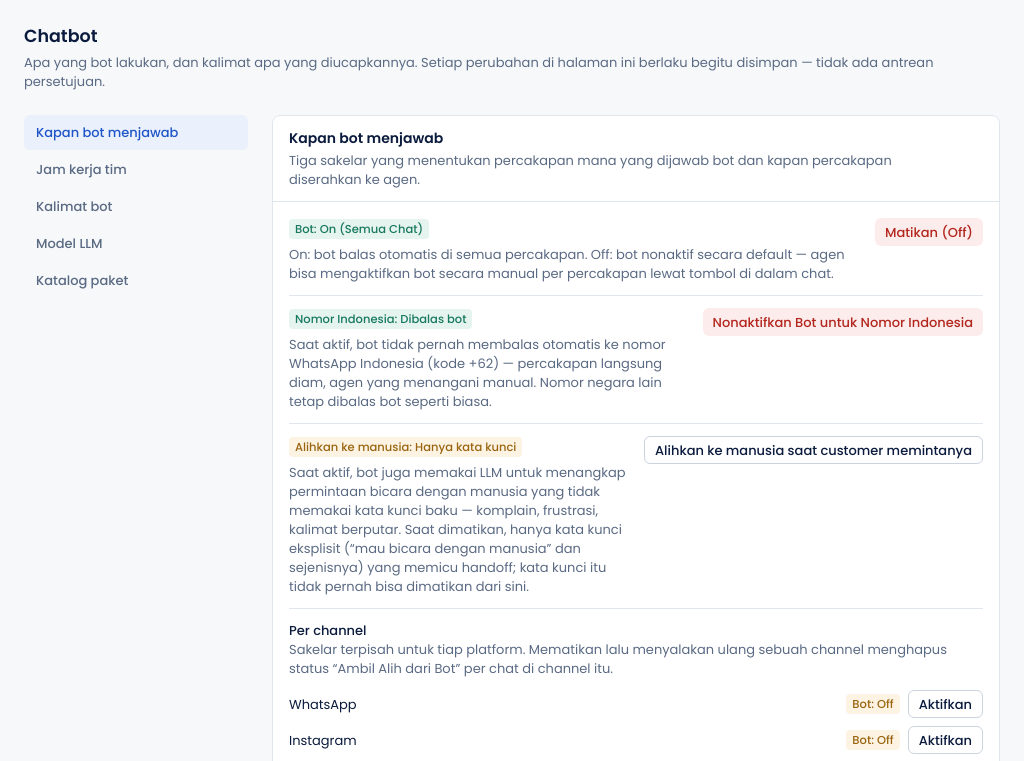
Test: ChatbotPage › turns the handoff classifier back on from the off state
Expected: the text "Alihkan ke manusia: Hanya kata kunci" is shown, left=289, top=437, right=522, bottom=457
Click the button "Alihkan ke manusia saat customer memintanya".
click(814, 450)  # box left=644, top=436, right=983, bottom=464
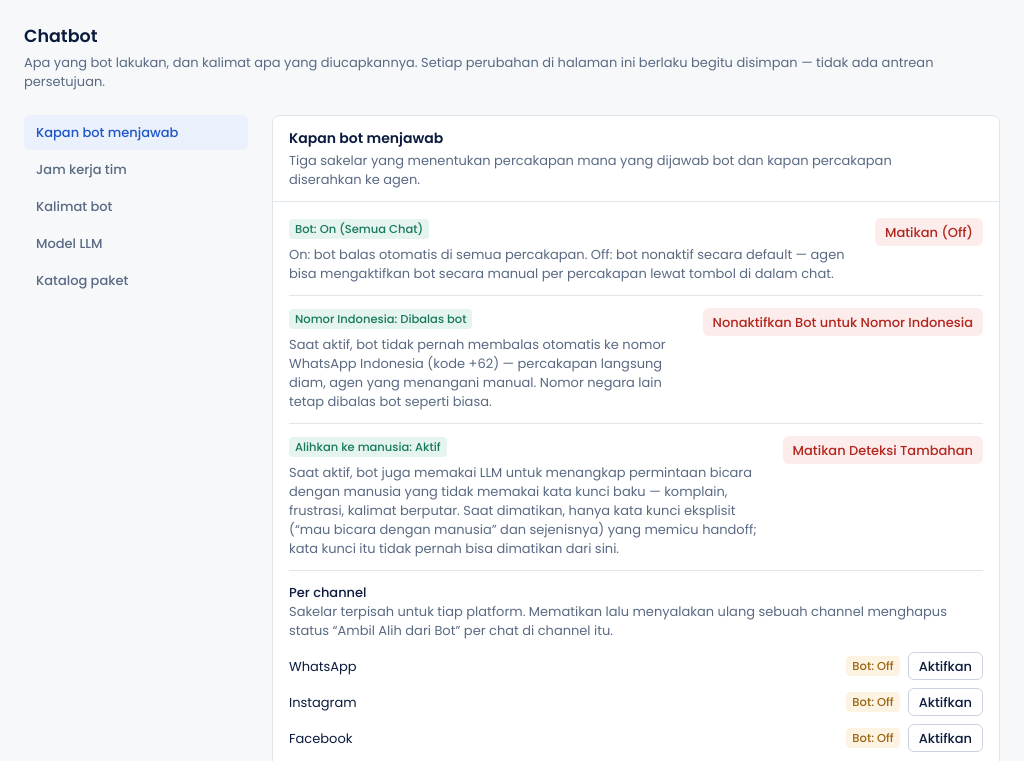
Expected: the text "Alihkan ke manusia: Aktif" is shown, left=289, top=437, right=447, bottom=457
